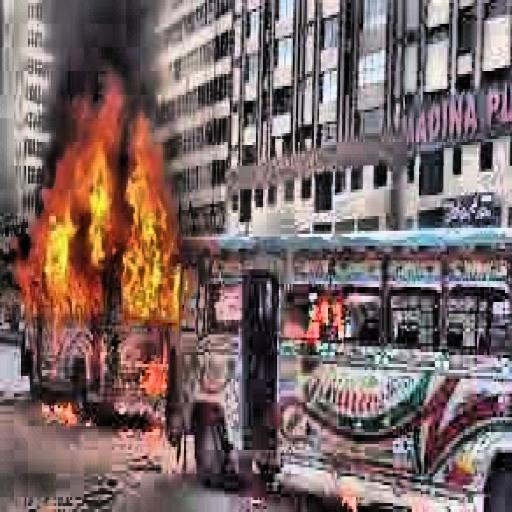fire: (14, 89, 196, 346), (288, 281, 352, 358), (28, 370, 88, 447), (126, 350, 176, 408)
